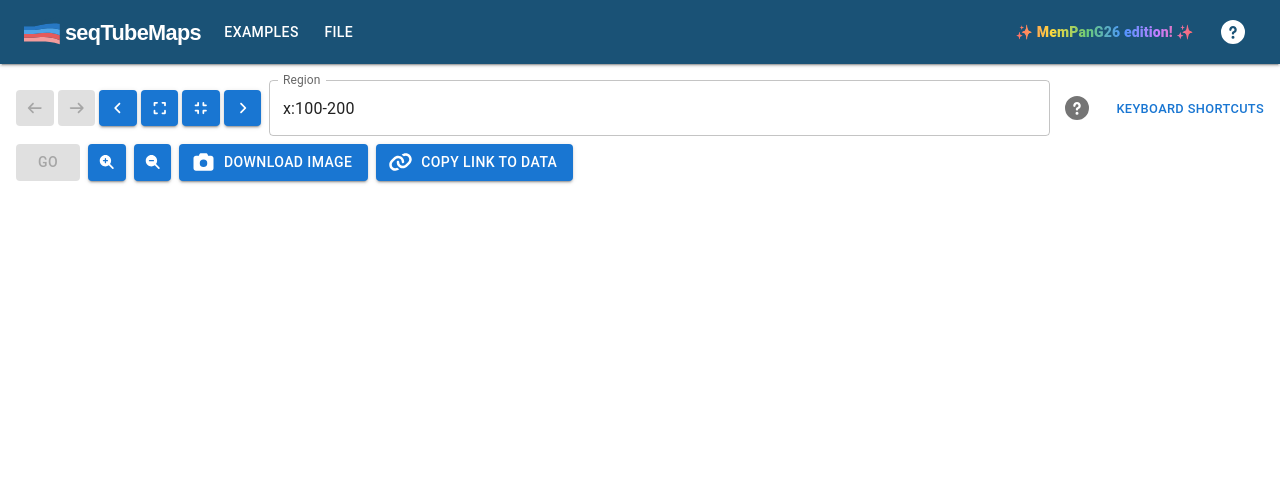
Test: labels the in-browser group when it is the only one
The image size is (1280, 485).
Click the button with test id "examplesMenuButton" at (262,32), box [216, 14, 307, 50]
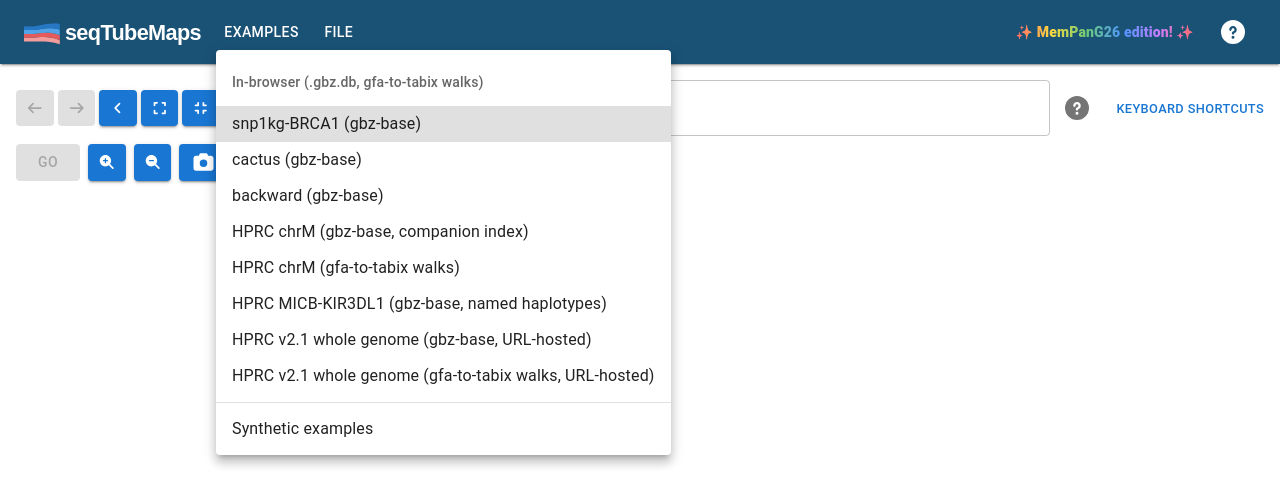
Result: the list item "In-browser (.gbz.db, gfa-to-tabix walks)" is shown at [216, 58, 670, 106]
Result: the menu item "cactus (gbz-base)" is shown at [232, 150, 362, 169]
